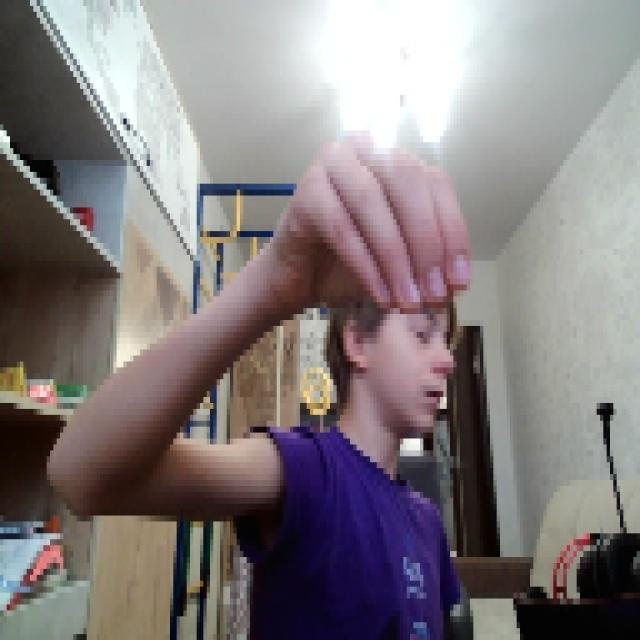left_click: (273, 130, 470, 314)
